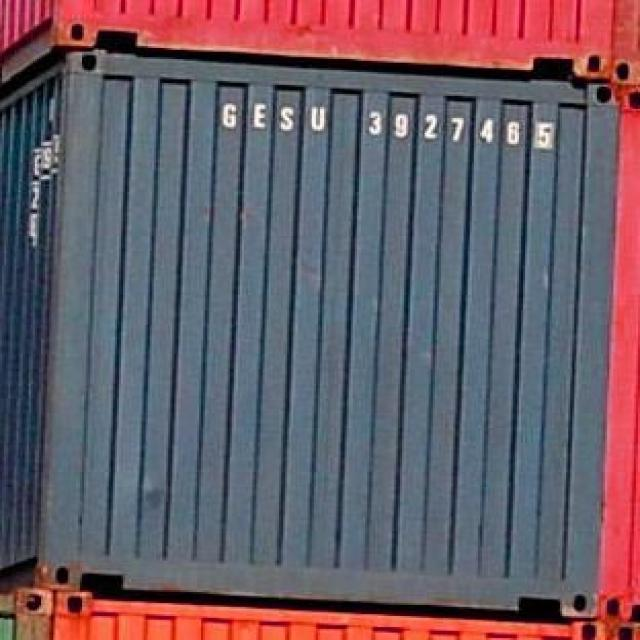container_number: (220, 90, 562, 162)
